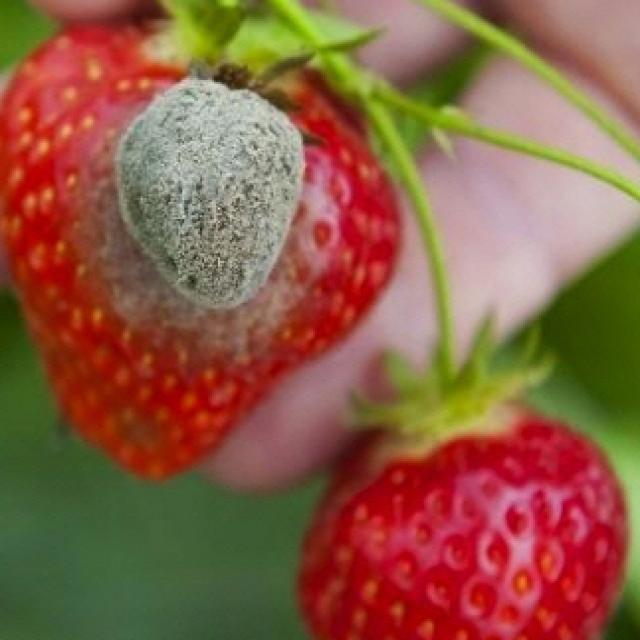Gray Mold: (62, 58, 341, 368)
